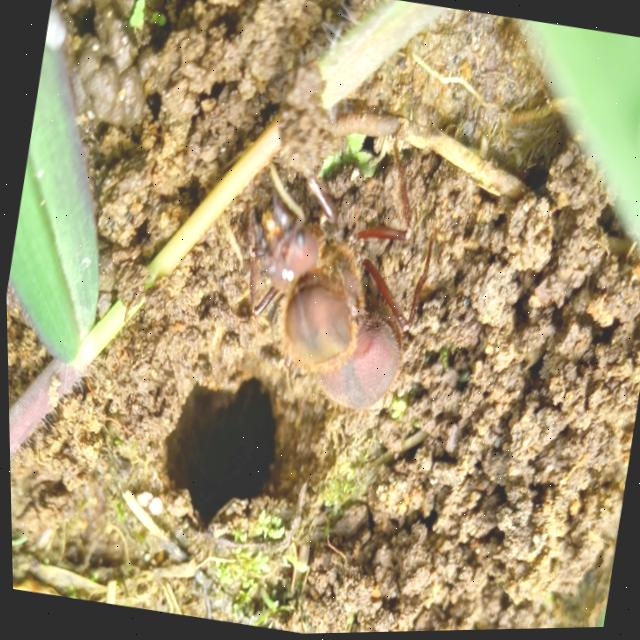Alive-Female-Dealate: (188, 92, 456, 423)
